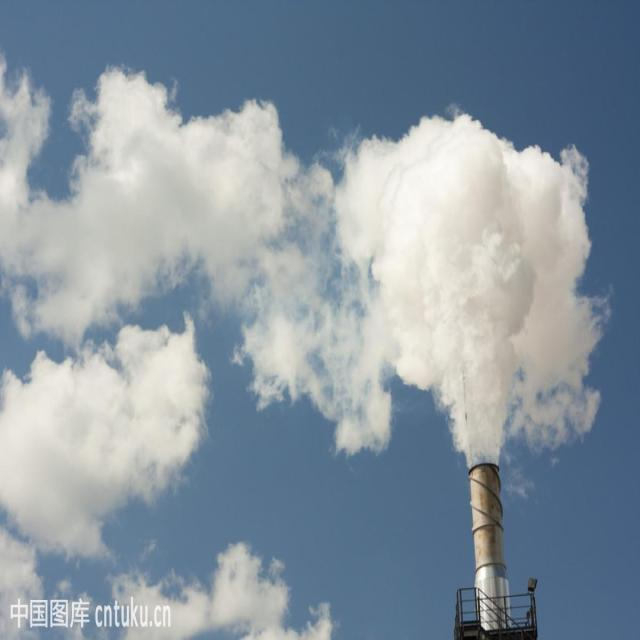Smoke: (0, 50, 617, 640)
